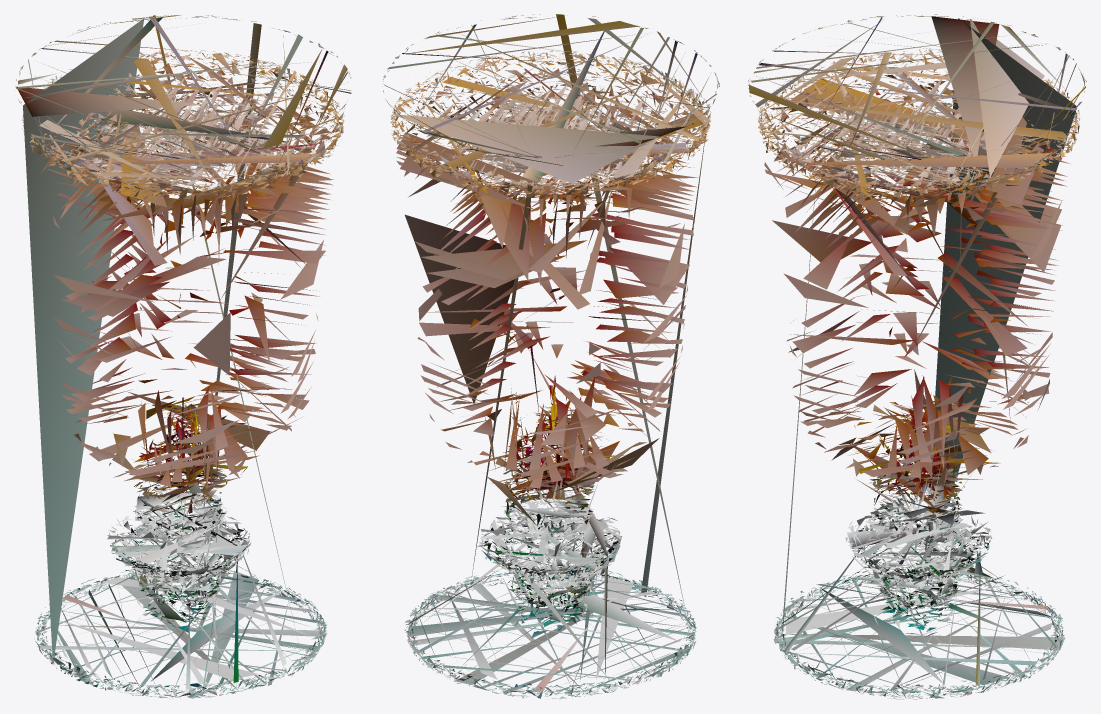
The model's file is hot_chocolate_in_glass_cup_56468.glb.
3 views of the same model, side by side, from view 1: azimuth 30°, elevation 25°; view 2: azimuth 150°, elevation 25°; view 3: azimuth 270°, elevation 25° (orthographic).
Visible parts, largest first — view 1: Ref; view 2: Ref; view 3: Ref.
Boxes of the visible parts, x1,y1,x2,y2 form: Ref: (15, 15, 351, 699); Ref: (383, 14, 719, 699); Ref: (748, 14, 1086, 699).
Size of the model in its own units: 0.9934 by 1.81 by 0.9941.
